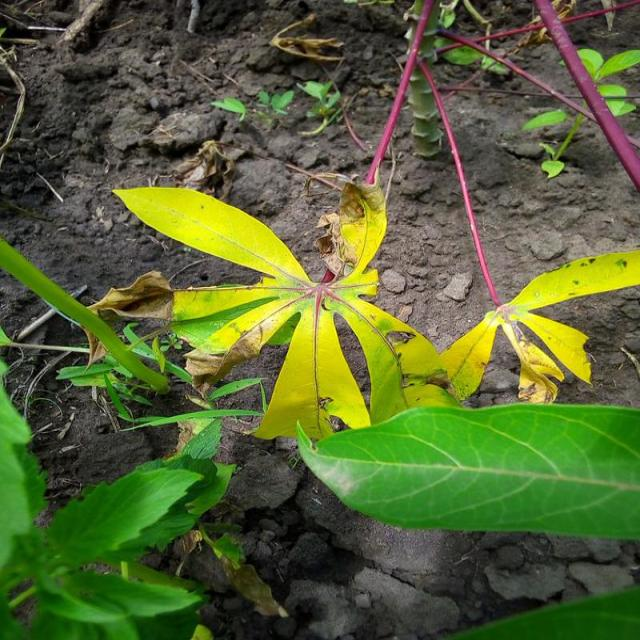cassava leaf: (108, 170, 449, 442), (294, 401, 640, 540)
